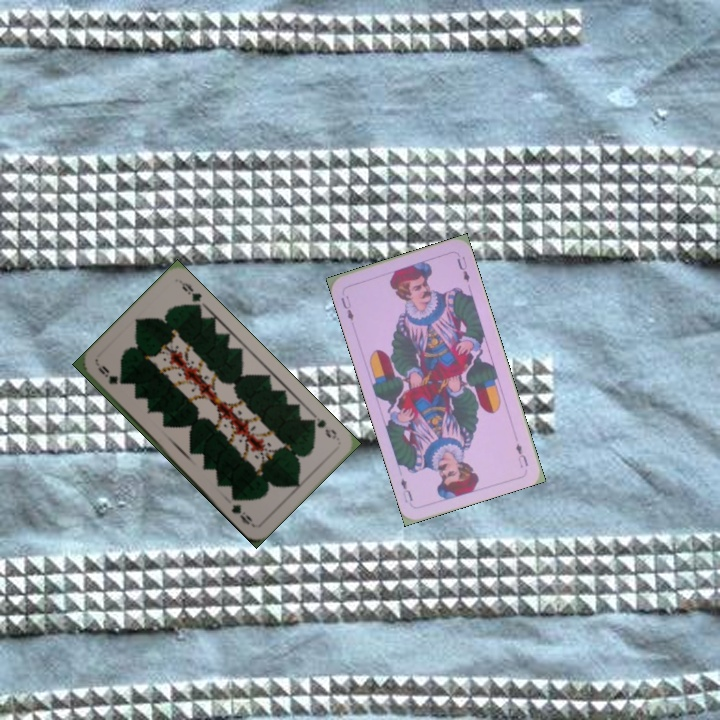EU: (512, 439, 531, 471), (337, 292, 356, 323)
G9: (305, 411, 339, 442), (94, 362, 121, 387)
